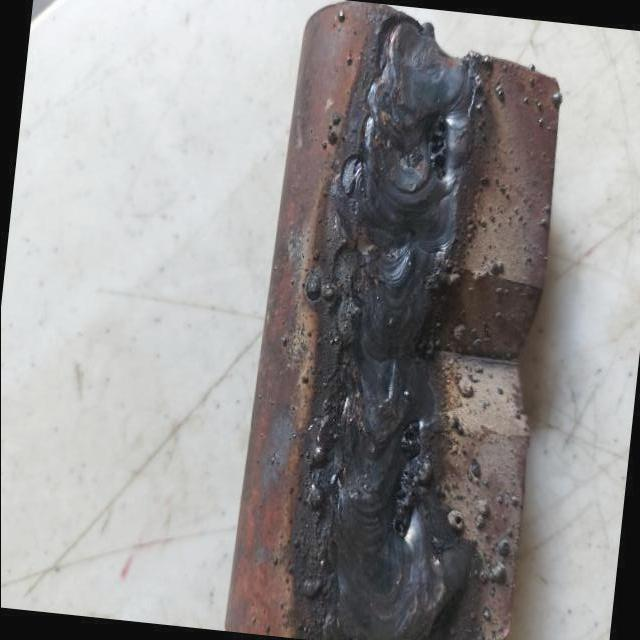defect: (391, 461, 422, 540), (427, 110, 449, 186), (397, 419, 421, 459)
